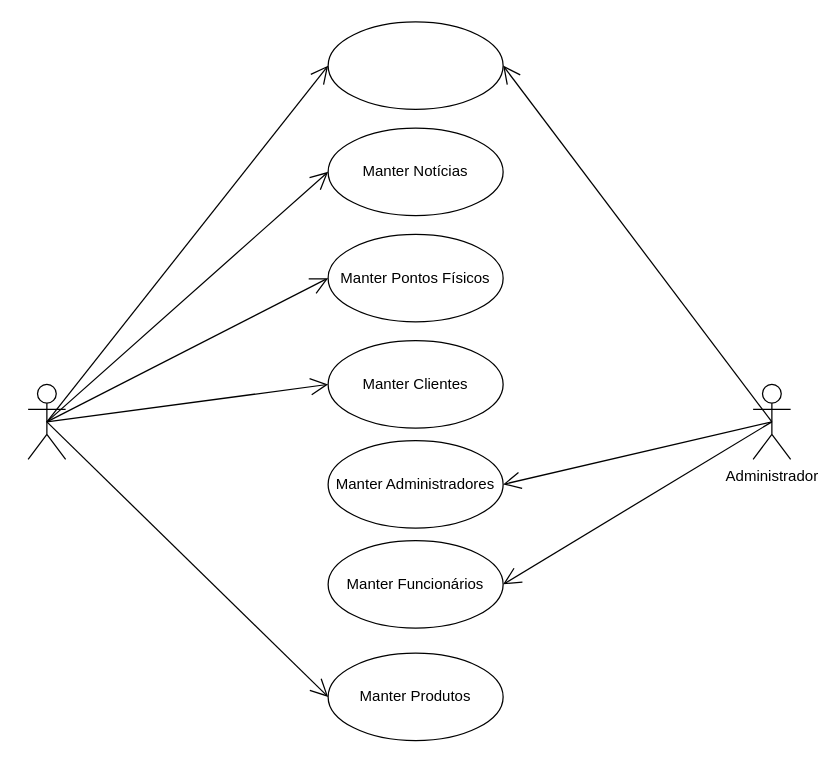
The diagram is 840 pixels wide and 763 high, and some of its shapes have lost their labels. The shapes that lost their labels are listed below. From the top down, each one's box as (x1, y1, x2, y2) in pixels, then its label:
(327, 21, 503, 109): Autenticar usuário
(27, 383, 66, 459): Usuário
